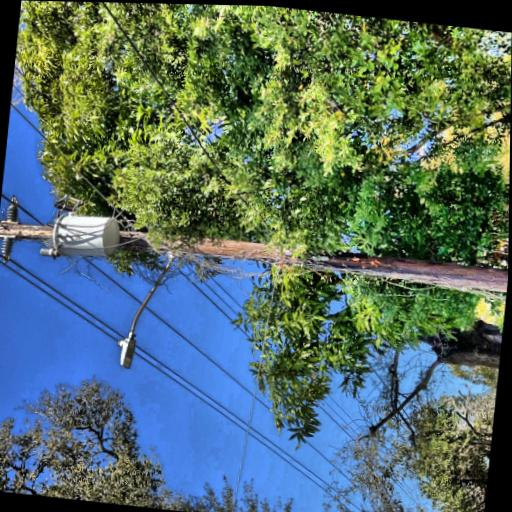pole: (88, 74, 169, 506)
street light: (9, 234, 130, 311)
transformer: (114, 163, 159, 241)
vegetation_encroachment: (49, 199, 178, 508)
